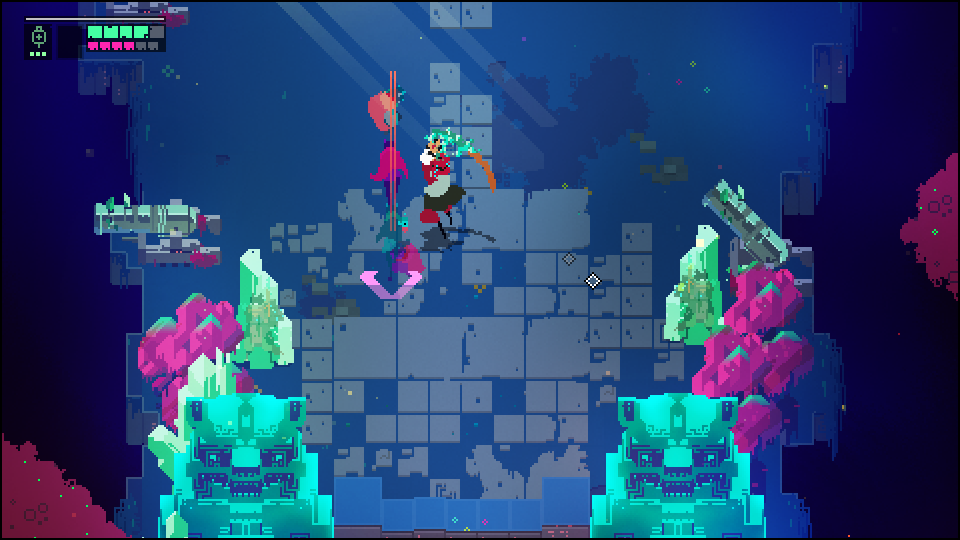hanged_man: (418, 128, 494, 246)
player: (364, 78, 409, 138)
